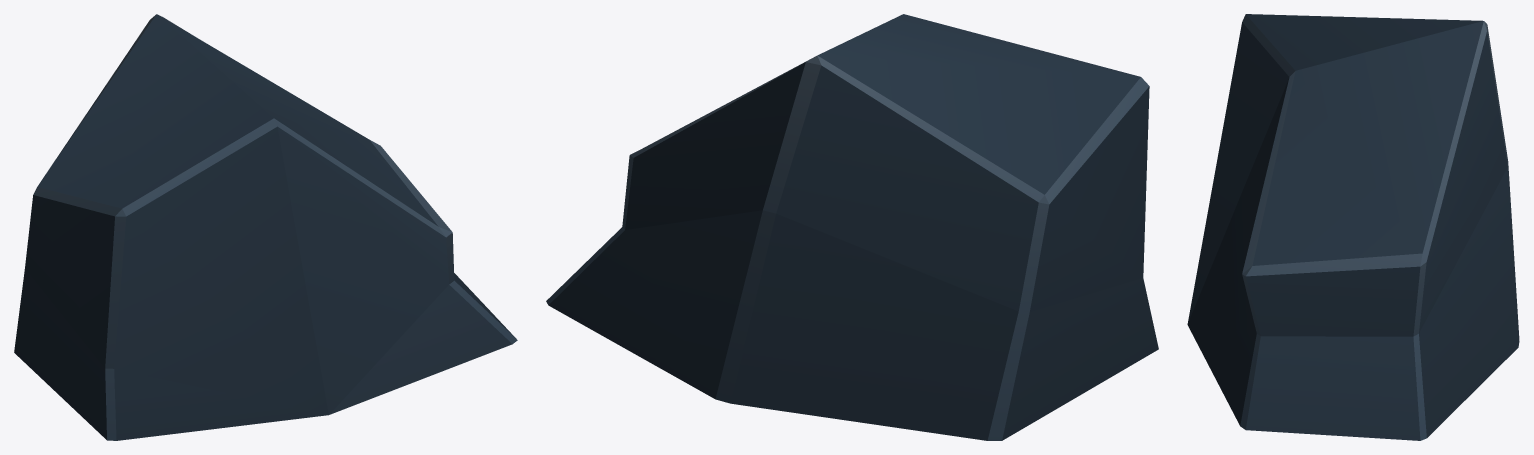
The model's file is Rock_9.fbx.
The picture shows the model from 3 angles, left to right: view 1: azimuth 30°, elevation 25°; view 2: azimuth 150°, elevation 25°; view 3: azimuth 270°, elevation 25°; orthographic projection. The views are drawn at different scales.
Visible parts, largest first — view 1: Rock_9; view 2: Rock_9; view 3: Rock_9.
Part boxes in pixels (bbox=[...]): Rock_9: bbox=[14, 14, 517, 440]; Rock_9: bbox=[546, 14, 1158, 440]; Rock_9: bbox=[1187, 14, 1519, 440].
Bounding box in the file's own units: 75.69 × 49.56 × 50.84.
